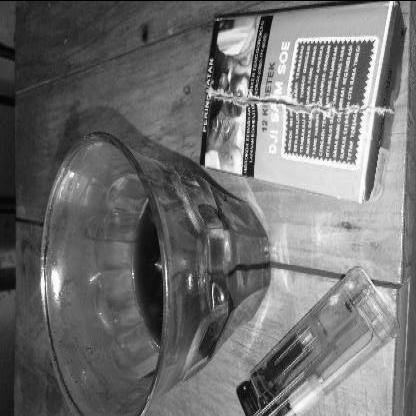objects: (200, 1, 406, 202)
